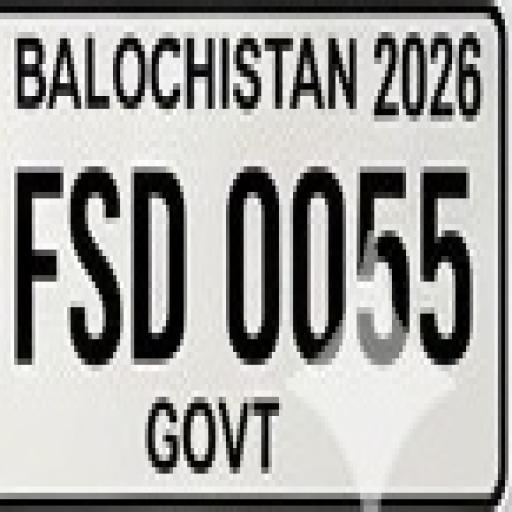0: (289, 167, 346, 379), (227, 166, 282, 371)
5: (414, 159, 480, 388), (351, 163, 414, 388)
D: (128, 156, 184, 382)
F: (8, 162, 66, 365)
S: (68, 169, 124, 382)
